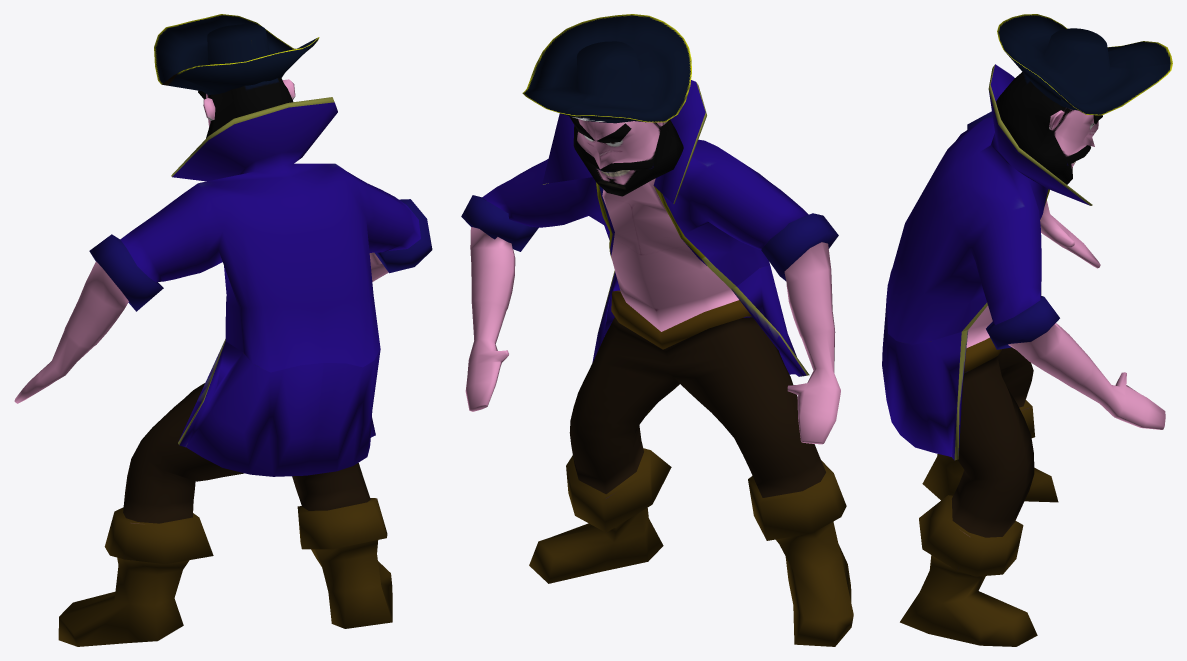
Rendered from pirata_000191.obj.
The picture shows the model from 3 angles, left to right: view 1: azimuth 30°, elevation 25°; view 2: azimuth 150°, elevation 25°; view 3: azimuth 270°, elevation 25°; orthographic projection. The views are drawn at different scales.
Parts seen in each view (by area): view 1: Pirata_PirataH; view 2: Pirata_PirataH; view 3: Pirata_PirataH.
Part boxes in pixels (x1,y1,x2,y2): Pirata_PirataH: (14, 14, 432, 646); Pirata_PirataH: (461, 14, 853, 646); Pirata_PirataH: (882, 14, 1172, 646).
Bounding box in the file's own units: 6.28 × 8.82 × 4.1.
Materials: 1 (1 with a texture image).
